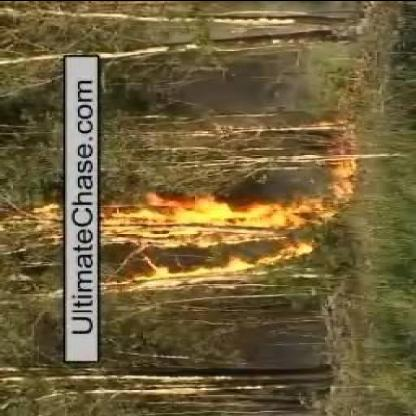foggia-v2-map80-epoch100 - v1 4323: (100, 206, 294, 240), (332, 162, 353, 200)
